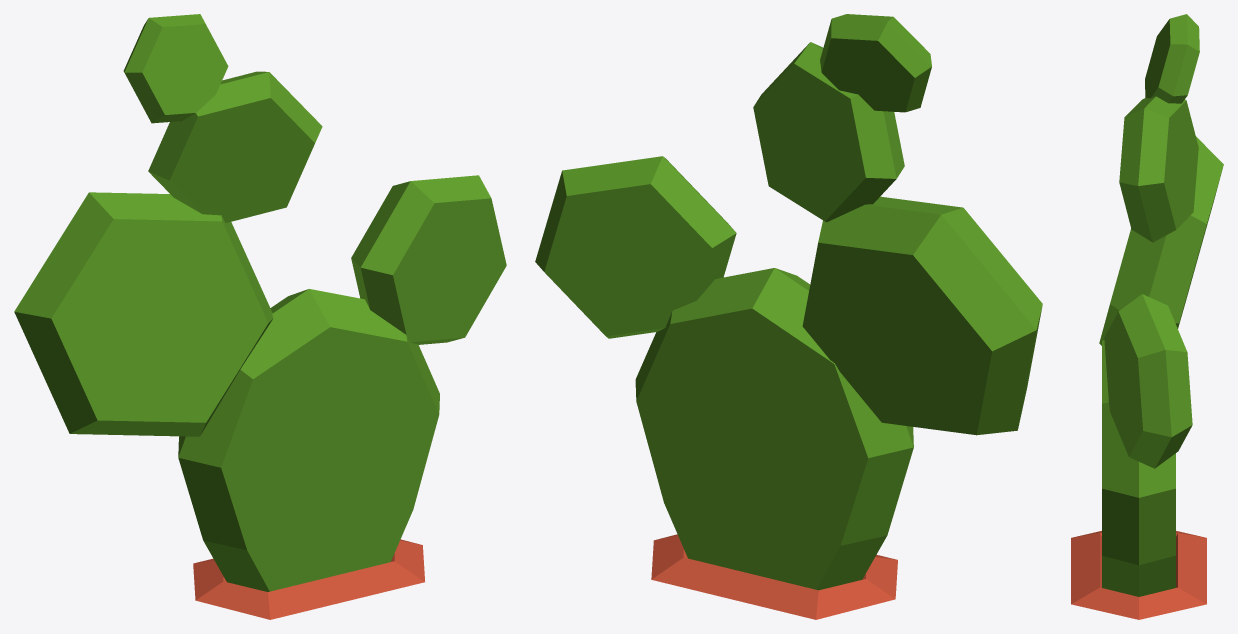
The model's file is Cactus_10.fbx.
3 views of the same model, side by side, from view 1: azimuth 30°, elevation 25°; view 2: azimuth 150°, elevation 25°; view 3: azimuth 270°, elevation 25° (orthographic). The views are drawn at different scales.
Parts seen in each view (by area): view 1: Cactus_3; view 2: Cactus_3; view 3: Cactus_3.
Part boxes in pixels (x1=…): Cactus_3: x1=14, y1=14, x2=506, y2=619; Cactus_3: x1=535, y1=14, x2=1042, y2=619; Cactus_3: x1=1071, y1=14, x2=1223, y2=619.
Size of the model in its own units: 105 by 120 by 33.17.
1 material, 1 textured.
